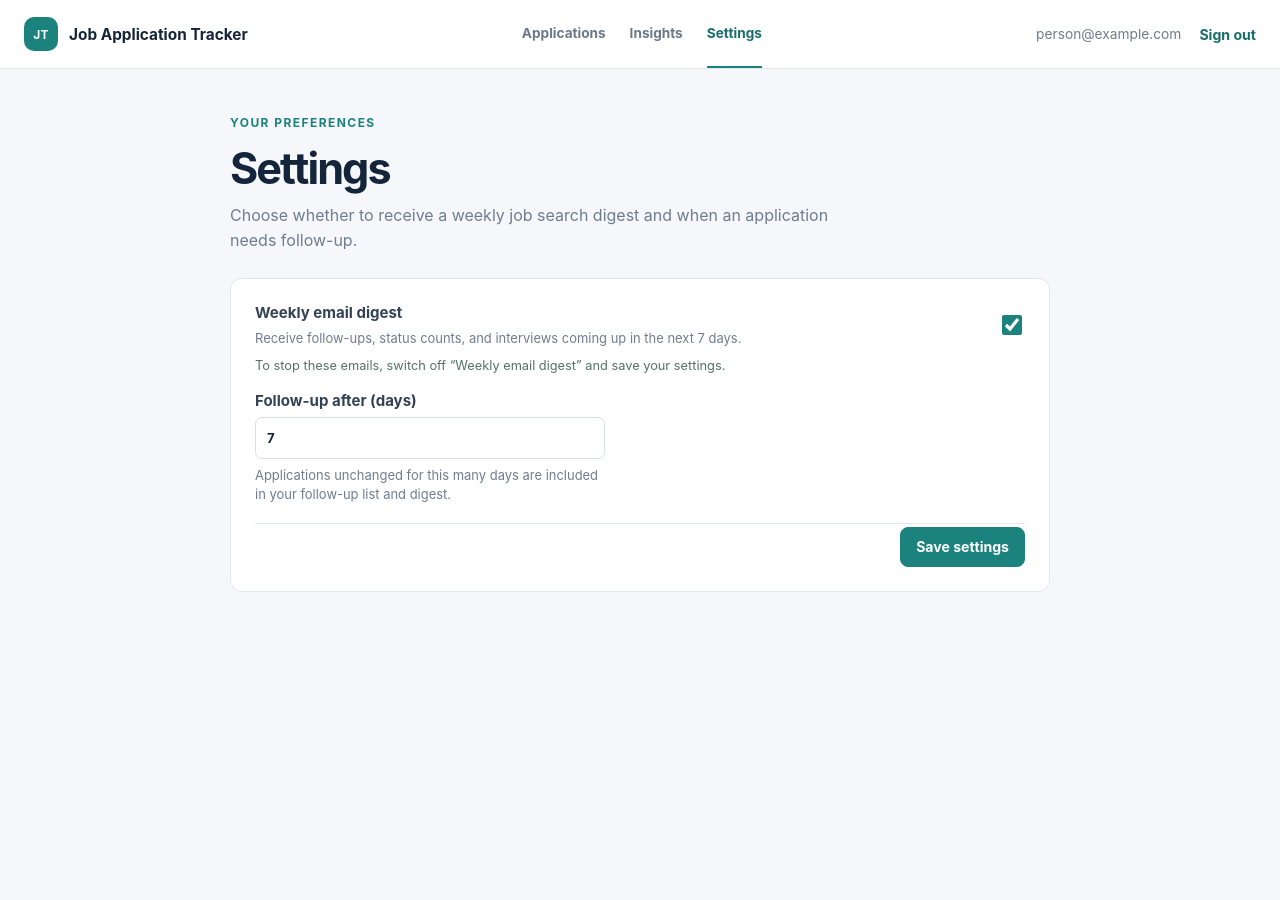
it: SettingsPage › loads settings and saves the digest toggle and follow-up days
The width and height of the screenshot is (1280, 900).
Expected: the text "switch off “Weekly email digest” and save" is shown, [255,358,725,373]
Click the checkbox labelled "Weekly email digest": (1012,325) [1002,315,1022,335]
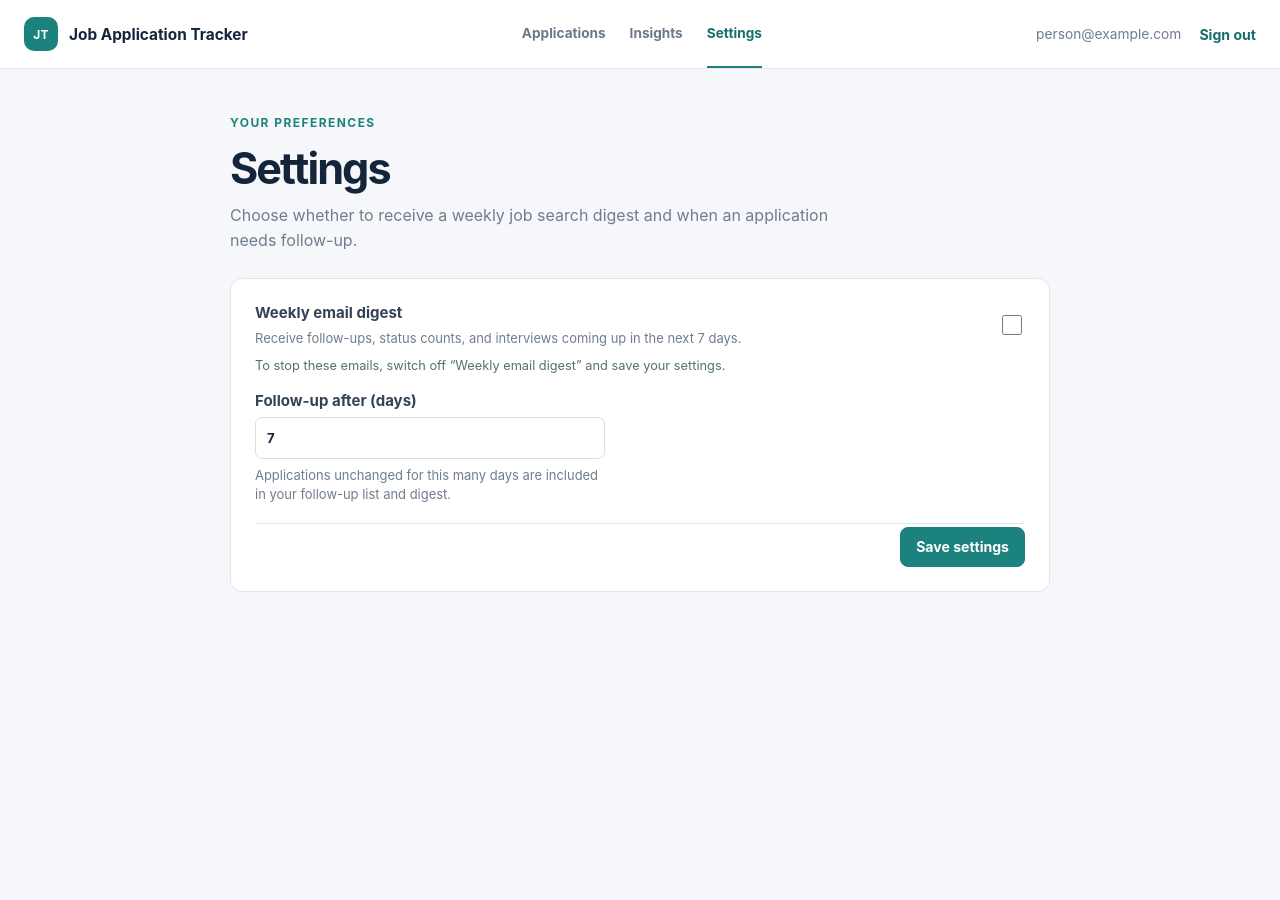
Replace the text in the number field named "Follow-up after days" with "14": (430,438) [255,417,605,459]
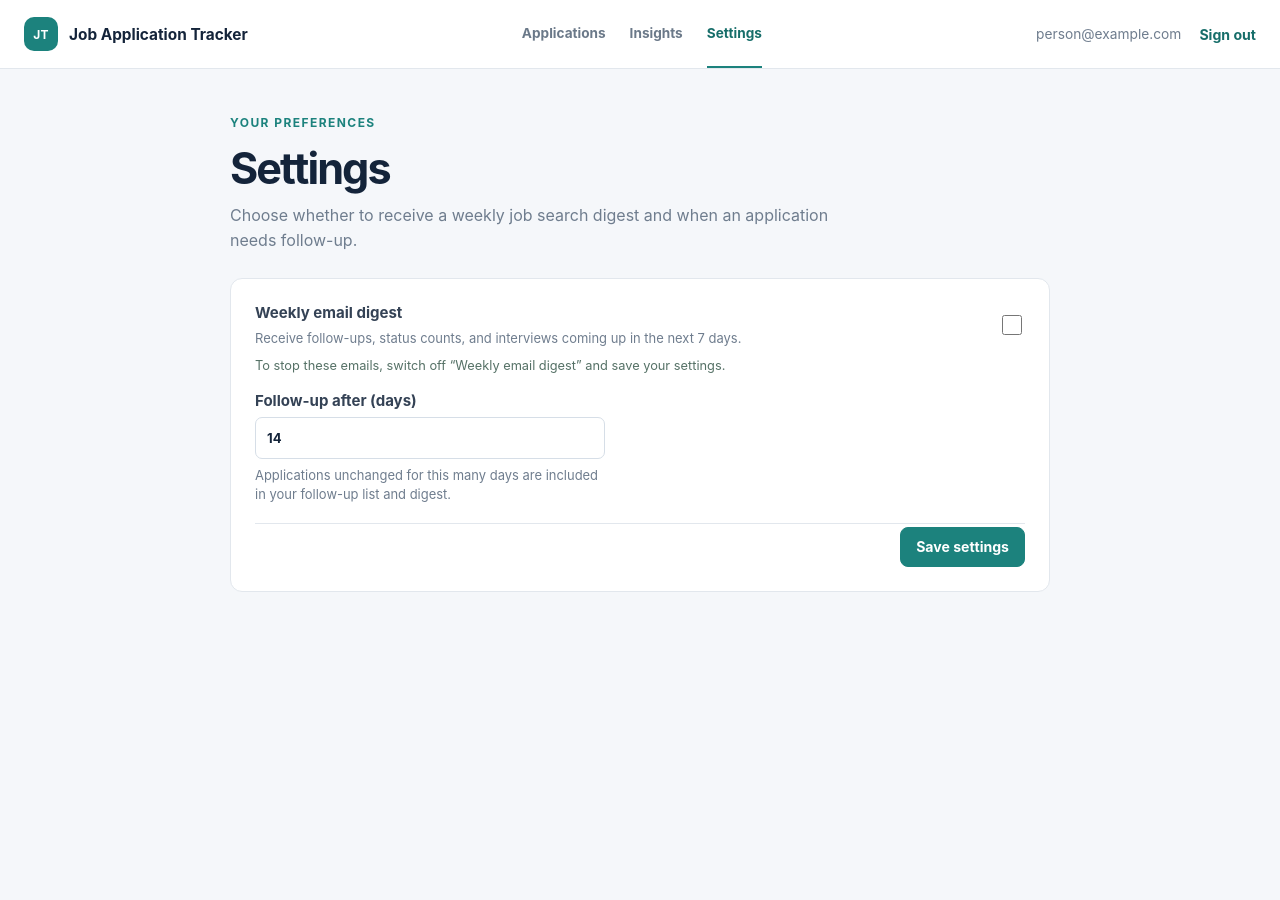
Click the button "Save settings": (963,547) [900,527,1025,567]
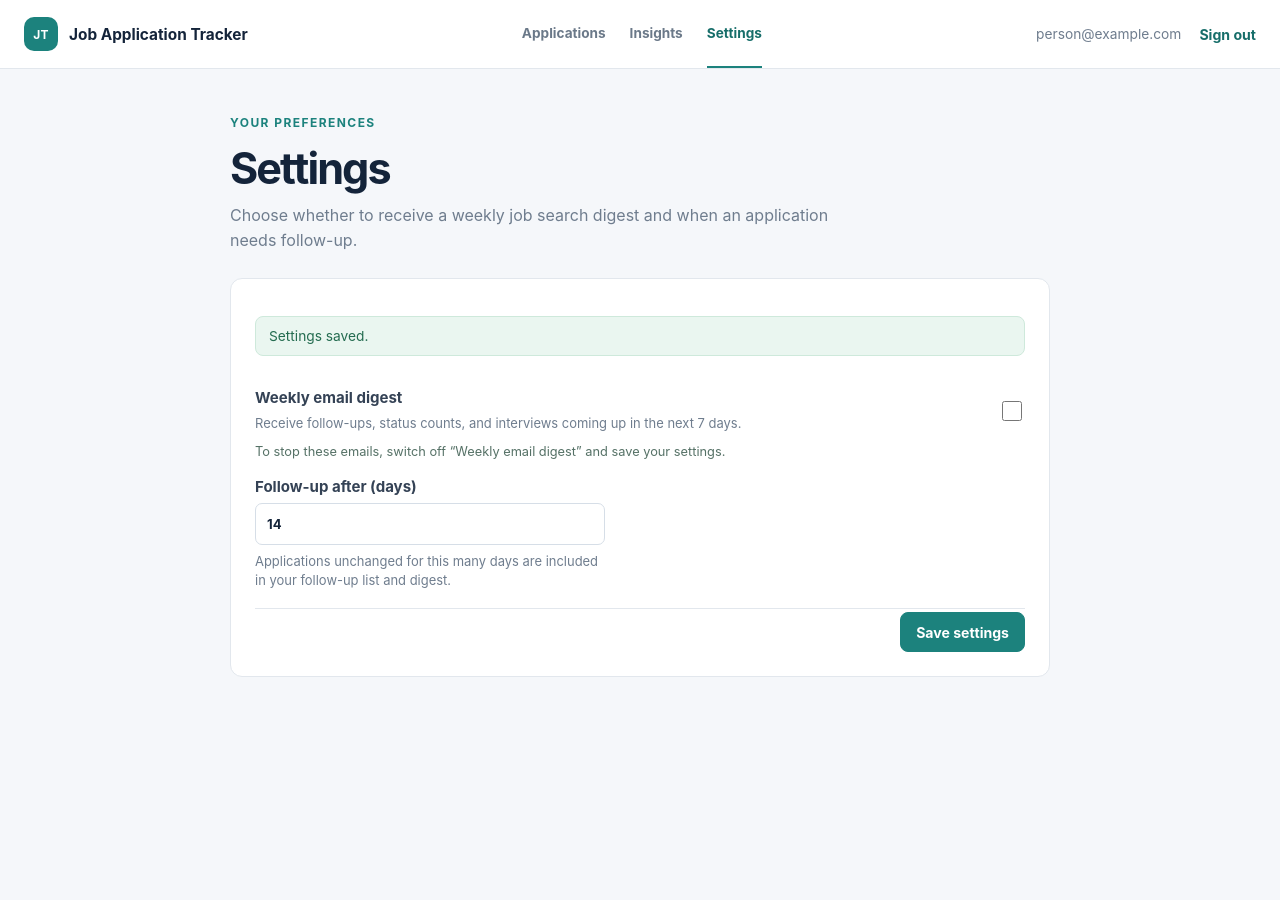
Expected: the message reads "Settings saved.", [269,328,368,344]
